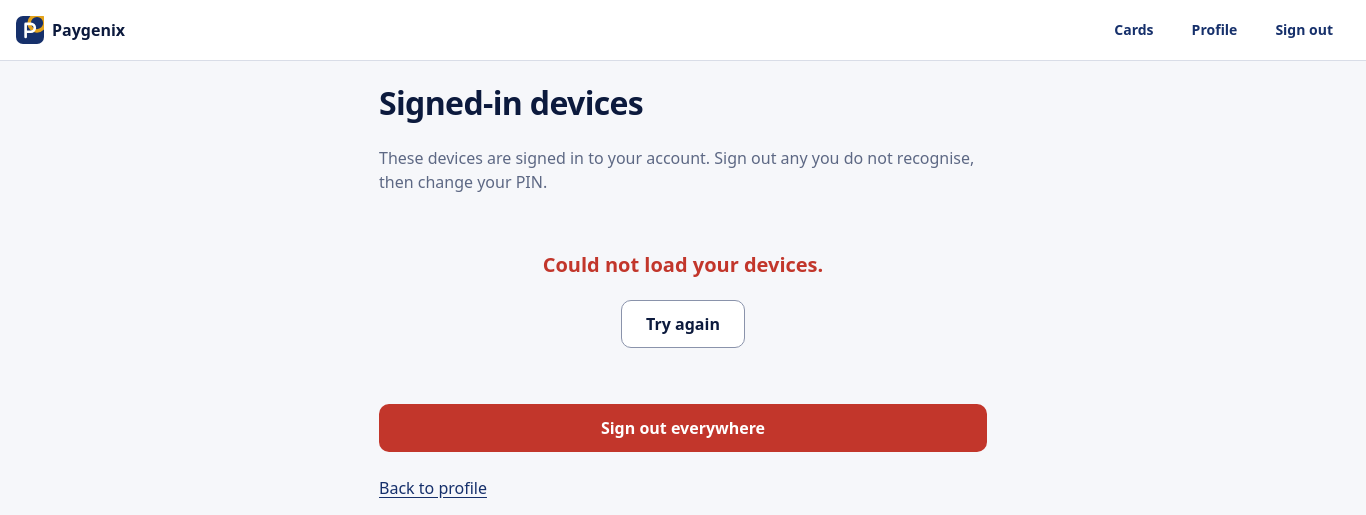
Test: a failed load offers a retry
The image size is (1366, 515).
Check: the text "Could not load your devices." is shown, box 543,250 -> 823,280
Click the button "Try again" at (683, 324), box 621,300 -> 745,348
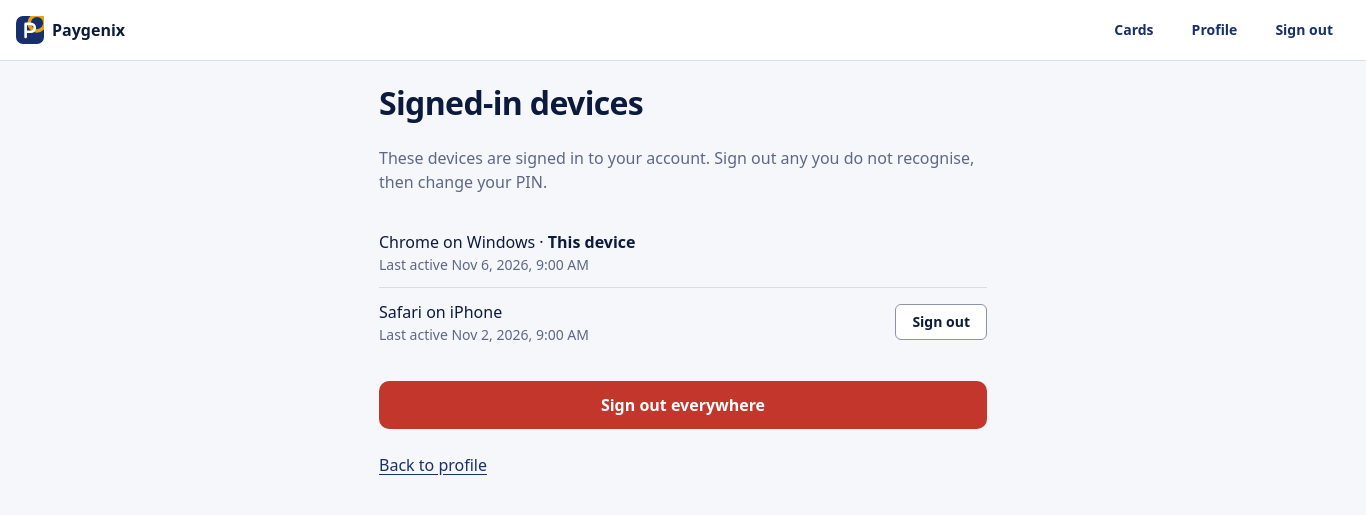
Check: the number of list items is 2, box 379,231 -> 636,274; 379,287 -> 987,357
